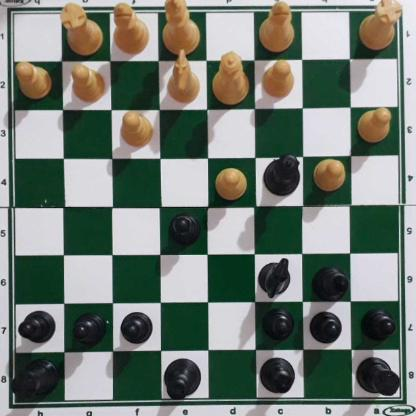black-bishop: (258, 360, 299, 397), (312, 267, 352, 302)
black-king: (162, 358, 202, 401)
black-knight: (260, 261, 293, 300)
black-pawn: (20, 311, 56, 347), (168, 215, 203, 250), (311, 312, 343, 347), (362, 312, 396, 344), (73, 315, 105, 349), (121, 314, 153, 348), (264, 311, 294, 345)
black-queen: (264, 153, 300, 198)
black-rook: (357, 358, 404, 400), (15, 361, 58, 406)
white-bishop: (111, 2, 151, 55), (258, 0, 295, 53)
white-king: (162, 0, 201, 58)
white-knight: (168, 51, 201, 105)
white-pawn: (69, 65, 107, 105), (16, 65, 53, 102), (262, 62, 297, 101), (312, 159, 349, 195), (358, 110, 395, 145), (121, 112, 155, 150), (215, 168, 249, 202)
white-queen: (212, 51, 250, 104)
white-rook: (361, 0, 401, 55), (63, 3, 101, 59)
